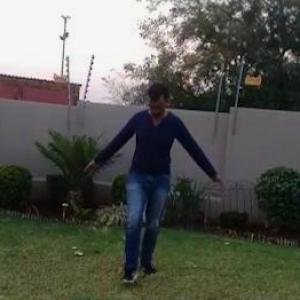land: (84, 77, 227, 291)
